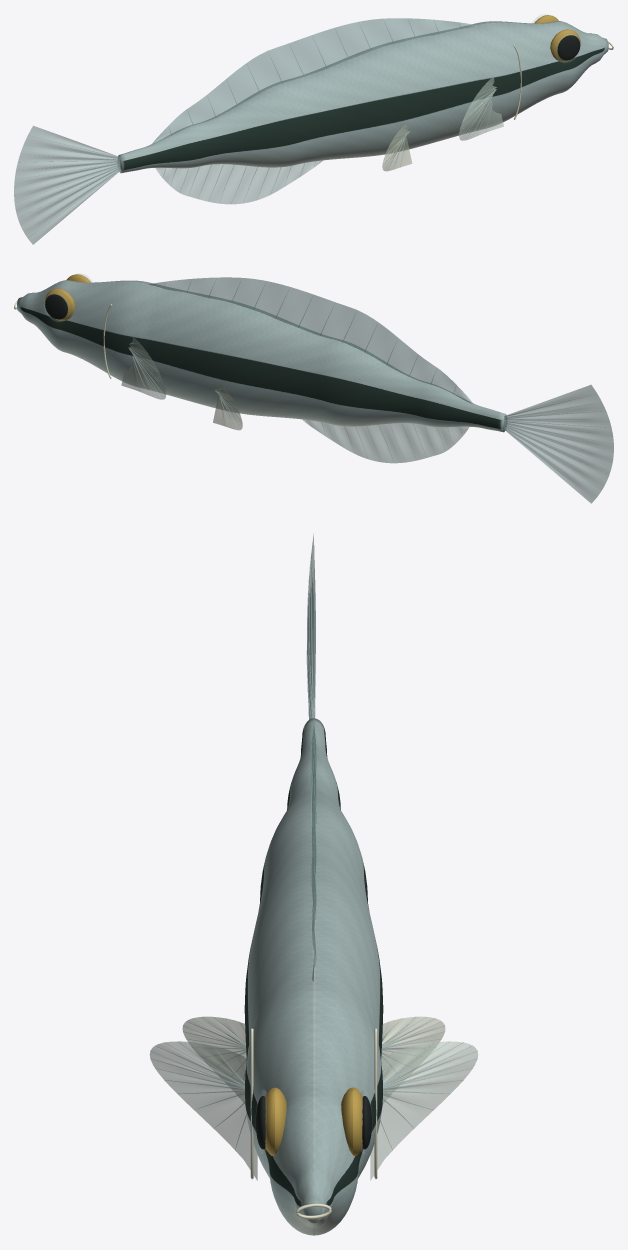
The model's file is cleanerwrasse-desktop.glb.
3 views of the same model, one above another, from view 1: azimuth 30°, elevation 25°; view 2: azimuth 150°, elevation 25°; view 3: azimuth 270°, elevation 25° (orthographic). The views are drawn at different scales.
Parts seen in each view (by area): view 1: skin, dorsal, tail, anal, dorsal-ray, pectoral-left, pelvic-left, eye-iris--1, eye-pupil--1; view 2: skin, dorsal, tail, anal, dorsal-ray, pectoral-left, pelvic-left, eye-iris--1, eye-pupil--1; view 3: skin, pectoral-left, pelvic-left, dorsal-ray, eye-iris--1, operculum, tail, dorsal, eye-pupil--1.
Boxes of the visible parts, bbox=[...] form: skin: bbox=[117, 21, 608, 173]; dorsal: bbox=[151, 18, 476, 144]; tail: bbox=[14, 125, 120, 244]; anal: bbox=[155, 160, 322, 204]; dorsal-ray: bbox=[18, 19, 496, 234]; pectoral-left: bbox=[459, 77, 503, 140]; pelvic-left: bbox=[382, 125, 412, 171]; eye-iris--1: bbox=[534, 15, 580, 61]; eye-pupil--1: bbox=[557, 35, 580, 60]; skin: bbox=[17, 280, 506, 432]; dorsal: bbox=[148, 277, 473, 404]; tail: bbox=[504, 385, 613, 503]; anal: bbox=[302, 419, 468, 463]; dorsal-ray: bbox=[128, 279, 612, 496]; pectoral-left: bbox=[121, 336, 166, 399]; pelvic-left: bbox=[213, 384, 242, 430]; eye-iris--1: bbox=[44, 274, 90, 320]; eye-pupil--1: bbox=[45, 294, 67, 319]; skin: bbox=[244, 718, 383, 1235]; pectoral-left: bbox=[149, 1041, 478, 1180]; pelvic-left: bbox=[182, 1016, 445, 1103]; dorsal-ray: bbox=[150, 543, 477, 1149]; eye-iris--1: bbox=[265, 1087, 362, 1155]; operculum: bbox=[250, 1028, 377, 1219]; tail: bbox=[307, 534, 315, 719]; dorsal: bbox=[311, 722, 316, 981]; eye-pupil--1: bbox=[256, 1096, 371, 1149].
Bounding box in the file's own units: 0.5972 × 0.1472 × 0.1425.
Materials: 11 (1 with a texture image).
